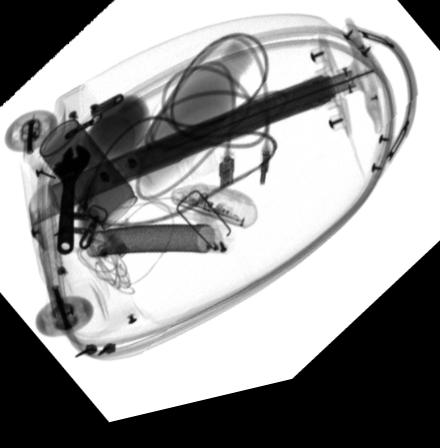Wrench: (51, 147, 90, 258)
